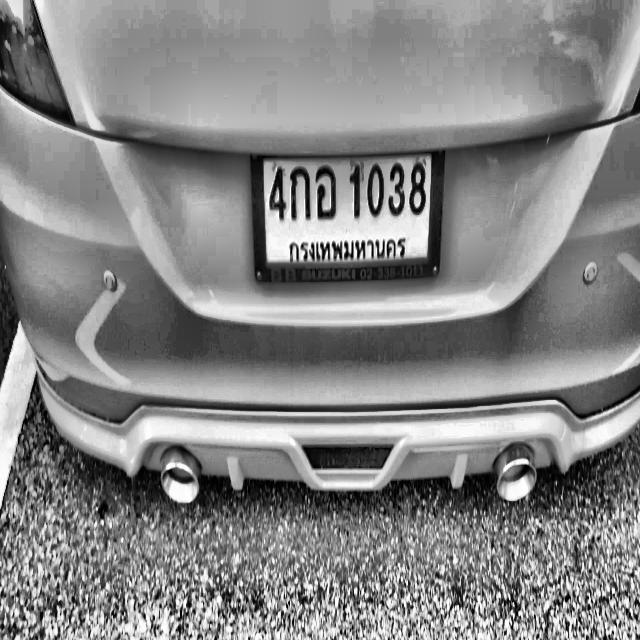license-plate: (250, 142, 446, 281)
